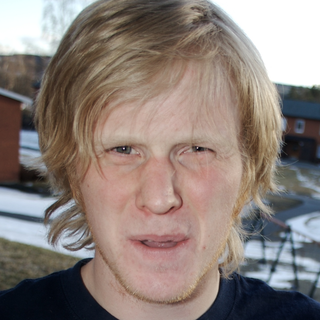eye: (175, 138, 222, 166), (98, 138, 144, 164)
